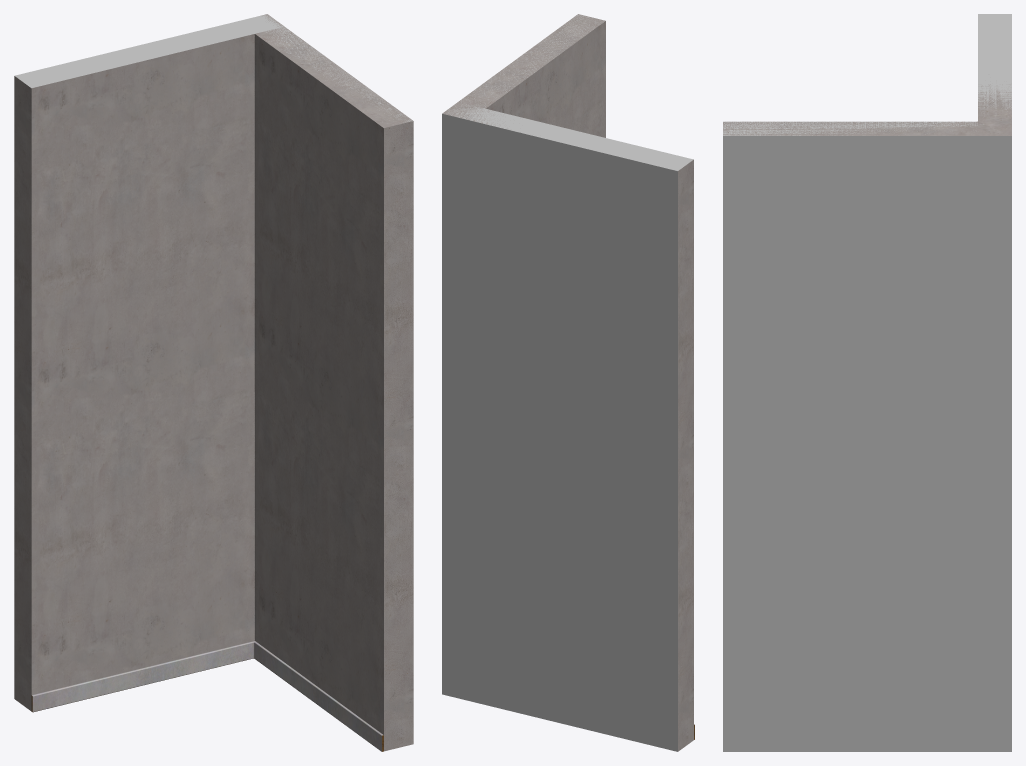
The model's file is SM_Wall_CornerIn_1_5x3_5_01a.fbx.
3 renders of one model, left to right at view 1: azimuth 30°, elevation 25°; view 2: azimuth 150°, elevation 25°; view 3: azimuth 270°, elevation 25°, orthographic. The views are drawn at different scales.
Visible parts, largest first — view 1: SM_Wall_CornerIn_1_5x3_5_01a, SM_Wall_CornerIn_1_5x3_5_01a_ConvexHulls; view 2: SM_Wall_CornerIn_1_5x3_5_01a_ConvexHulls, SM_Wall_CornerIn_1_5x3_5_01a; view 3: SM_Wall_CornerIn_1_5x3_5_01a_ConvexHulls, SM_Wall_CornerIn_1_5x3_5_01a.
Boxes of the visible parts, box(x1,y1,x2,y2) form: SM_Wall_CornerIn_1_5x3_5_01a: box(14, 14, 413, 751); SM_Wall_CornerIn_1_5x3_5_01a_ConvexHulls: box(14, 14, 412, 122); SM_Wall_CornerIn_1_5x3_5_01a_ConvexHulls: box(442, 14, 693, 751); SM_Wall_CornerIn_1_5x3_5_01a: box(443, 14, 694, 751); SM_Wall_CornerIn_1_5x3_5_01a_ConvexHulls: box(723, 14, 1011, 751); SM_Wall_CornerIn_1_5x3_5_01a: box(723, 84, 1011, 135).
Bounding box in the file's own units: 170 × 170 × 400.
